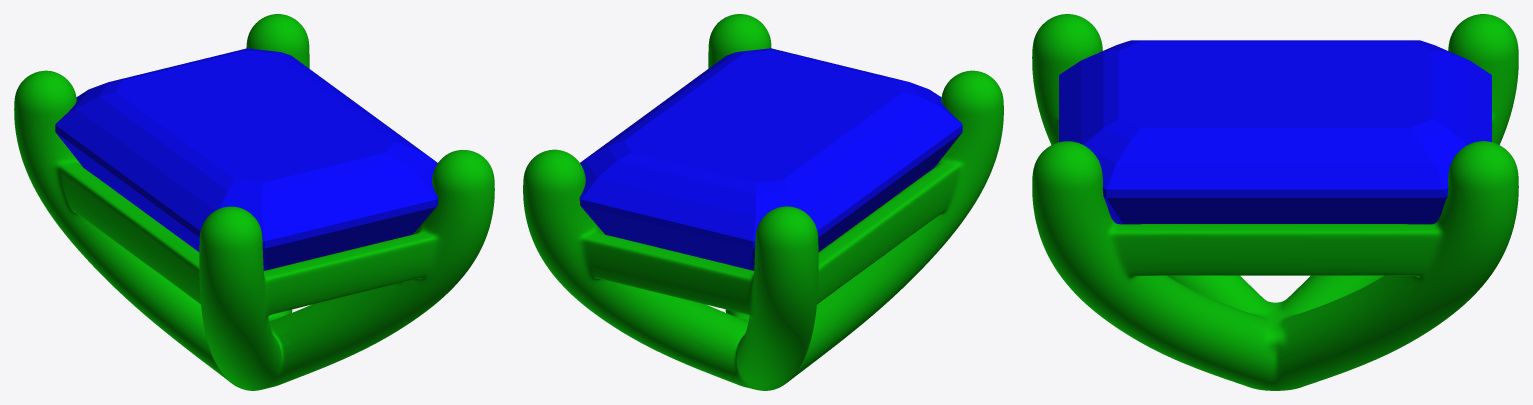
3 renders of one model, left to right at view 1: azimuth 30°, elevation 25°; view 2: azimuth 150°, elevation 25°; view 3: azimuth 270°, elevation 25°, orthographic. The views are drawn at different scales.
Parts seen in each view (by area): view 1: Metal01, Diamond_Emerald; view 2: Metal01, Diamond_Emerald; view 3: Metal01, Diamond_Emerald.
Boxes of the visible parts, x1,y1,x2,y2 form: Metal01: [14, 14, 494, 390]; Diamond_Emerald: [55, 48, 437, 270]; Metal01: [523, 14, 1003, 390]; Diamond_Emerald: [579, 48, 962, 270]; Metal01: [1032, 14, 1518, 390]; Diamond_Emerald: [1059, 40, 1491, 224].
Bounding box in the file's own units: 6.57 × 5.85 × 8.6.
